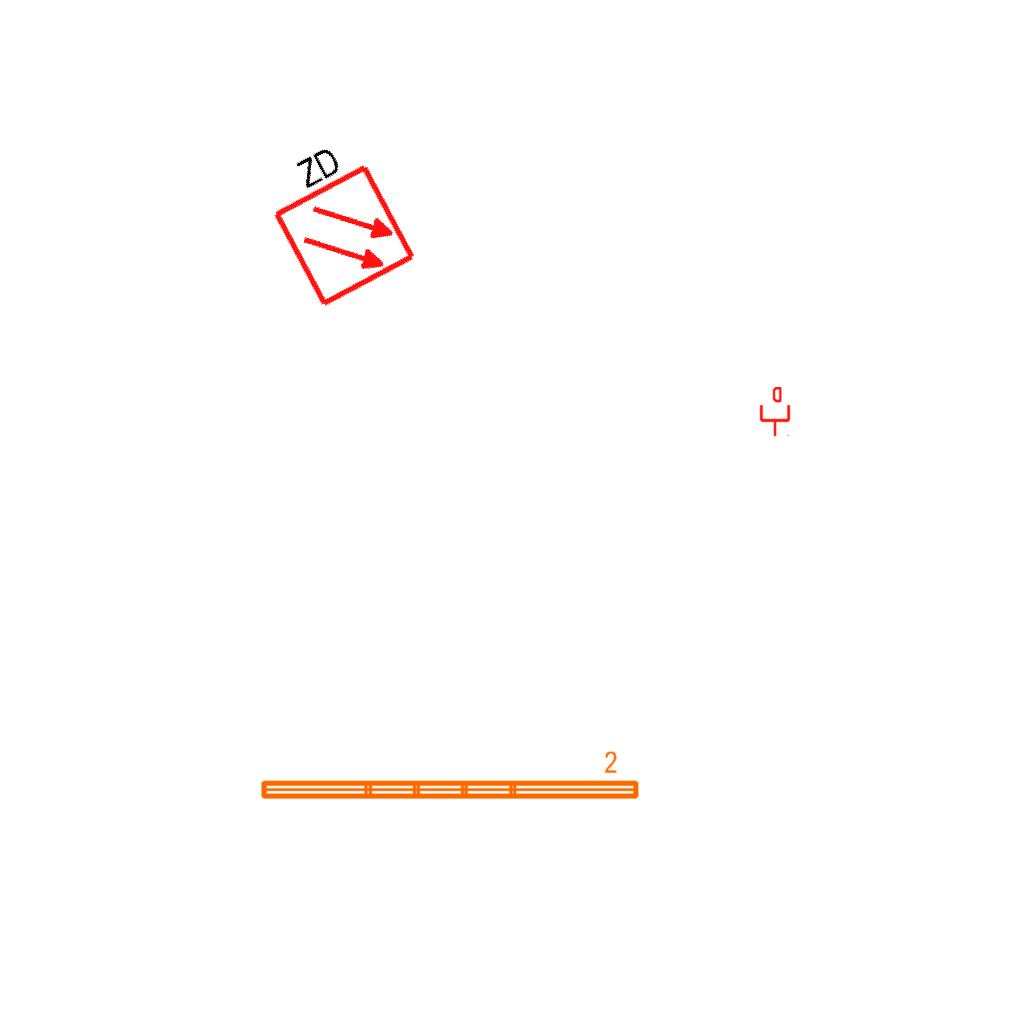Ambulanz_Pendelleuchte_LED: (256, 749, 643, 805)
Datenanschluss_einfach: (758, 387, 792, 437)
ZD_Melder_in_Zwischendecke_mit_Revisionsoeffnung_mind_40_x_40_cm: (248, 126, 420, 313)
